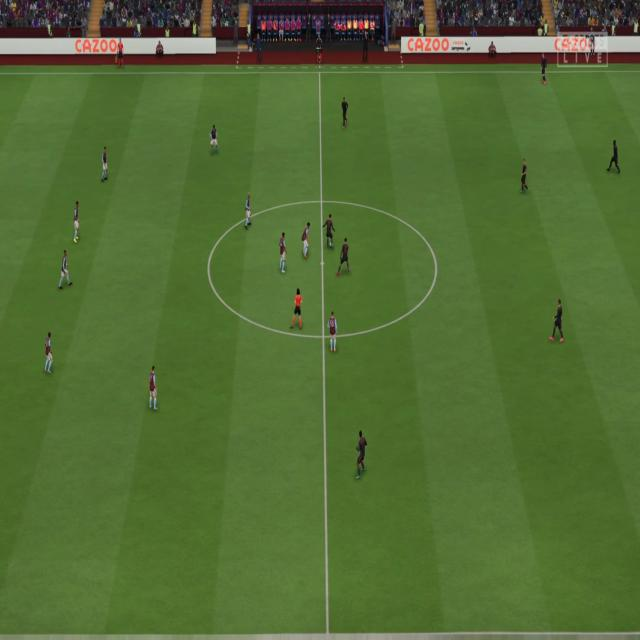Ball: (327, 240, 334, 250)
Referee: (292, 290, 304, 329)
Team-A: (550, 299, 565, 342), (336, 238, 352, 278), (606, 140, 622, 176), (324, 217, 337, 248), (520, 159, 530, 194), (340, 99, 350, 130), (541, 54, 550, 86)
Team-H: (356, 431, 369, 480), (58, 250, 72, 290), (148, 366, 160, 412), (43, 333, 53, 378), (301, 223, 312, 260), (70, 203, 80, 243), (278, 233, 288, 271), (329, 315, 339, 353), (209, 126, 221, 157), (242, 193, 252, 230), (100, 147, 109, 182)
